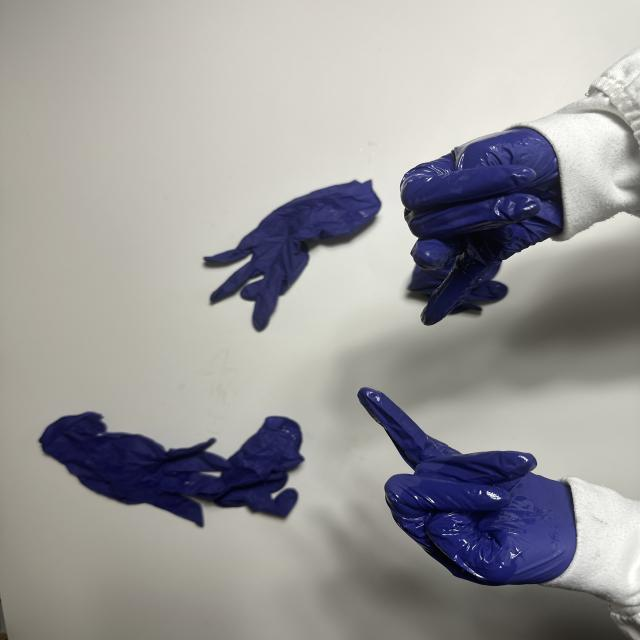gloves_contaminated: (358, 388, 576, 586), (402, 129, 562, 325)
